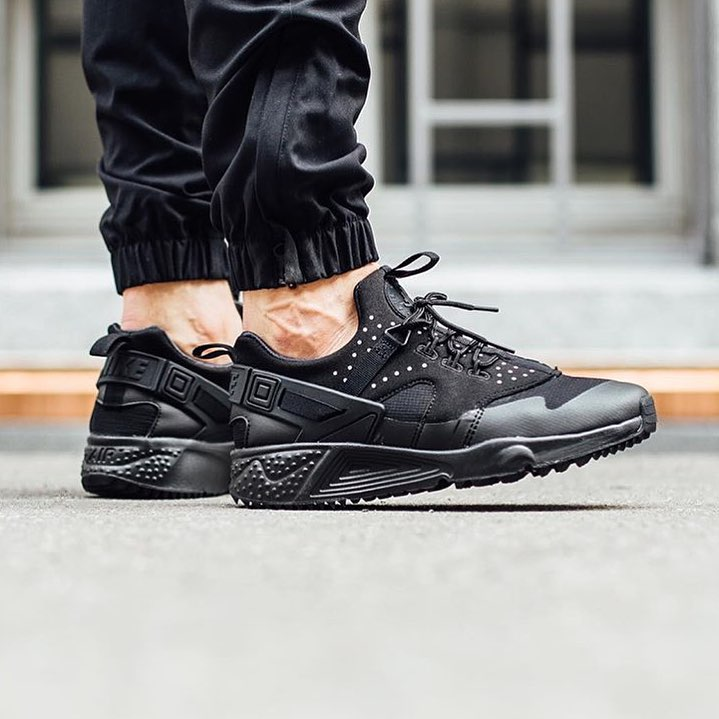sneaker: (208, 233, 686, 524), (69, 234, 251, 525)
